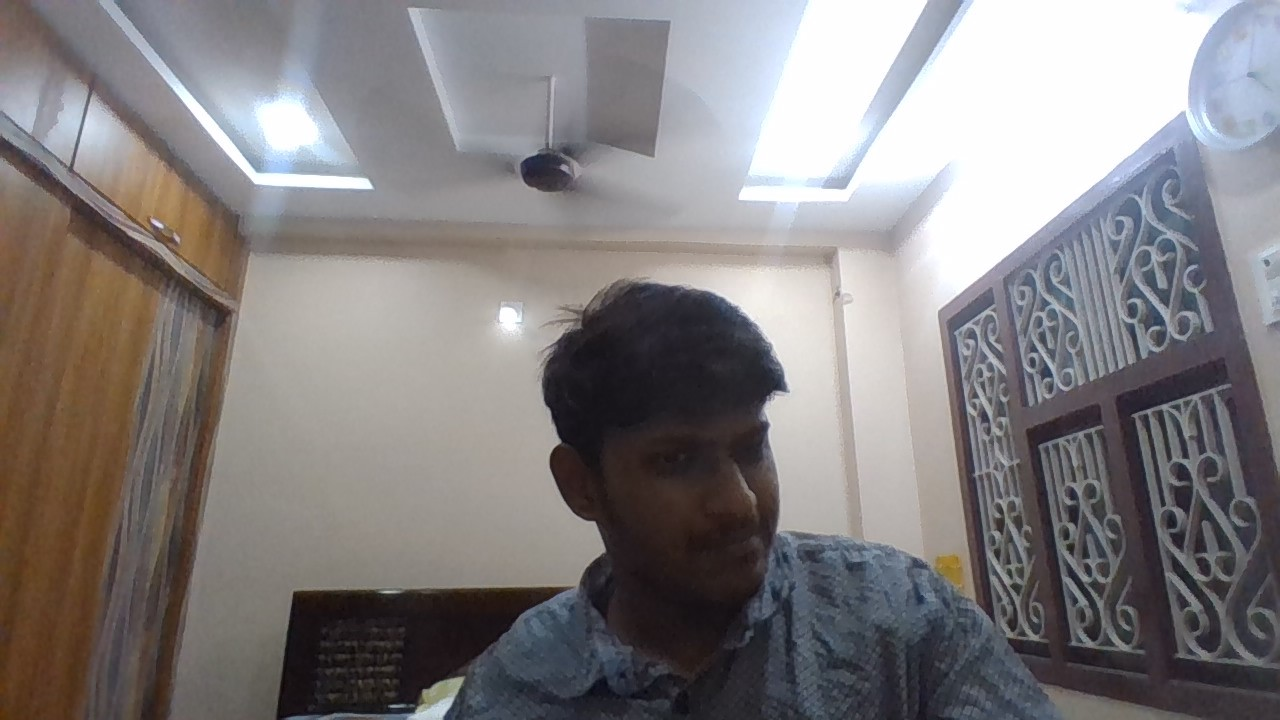person: (502, 197, 988, 700)
